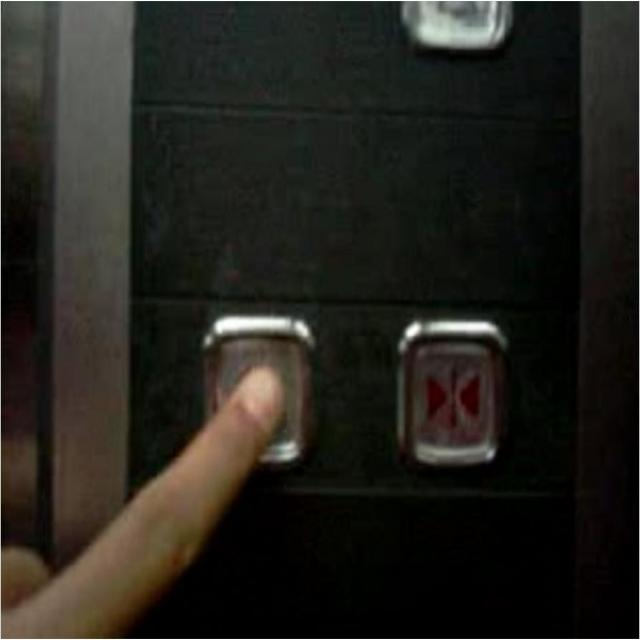close: (392, 314, 510, 466)
